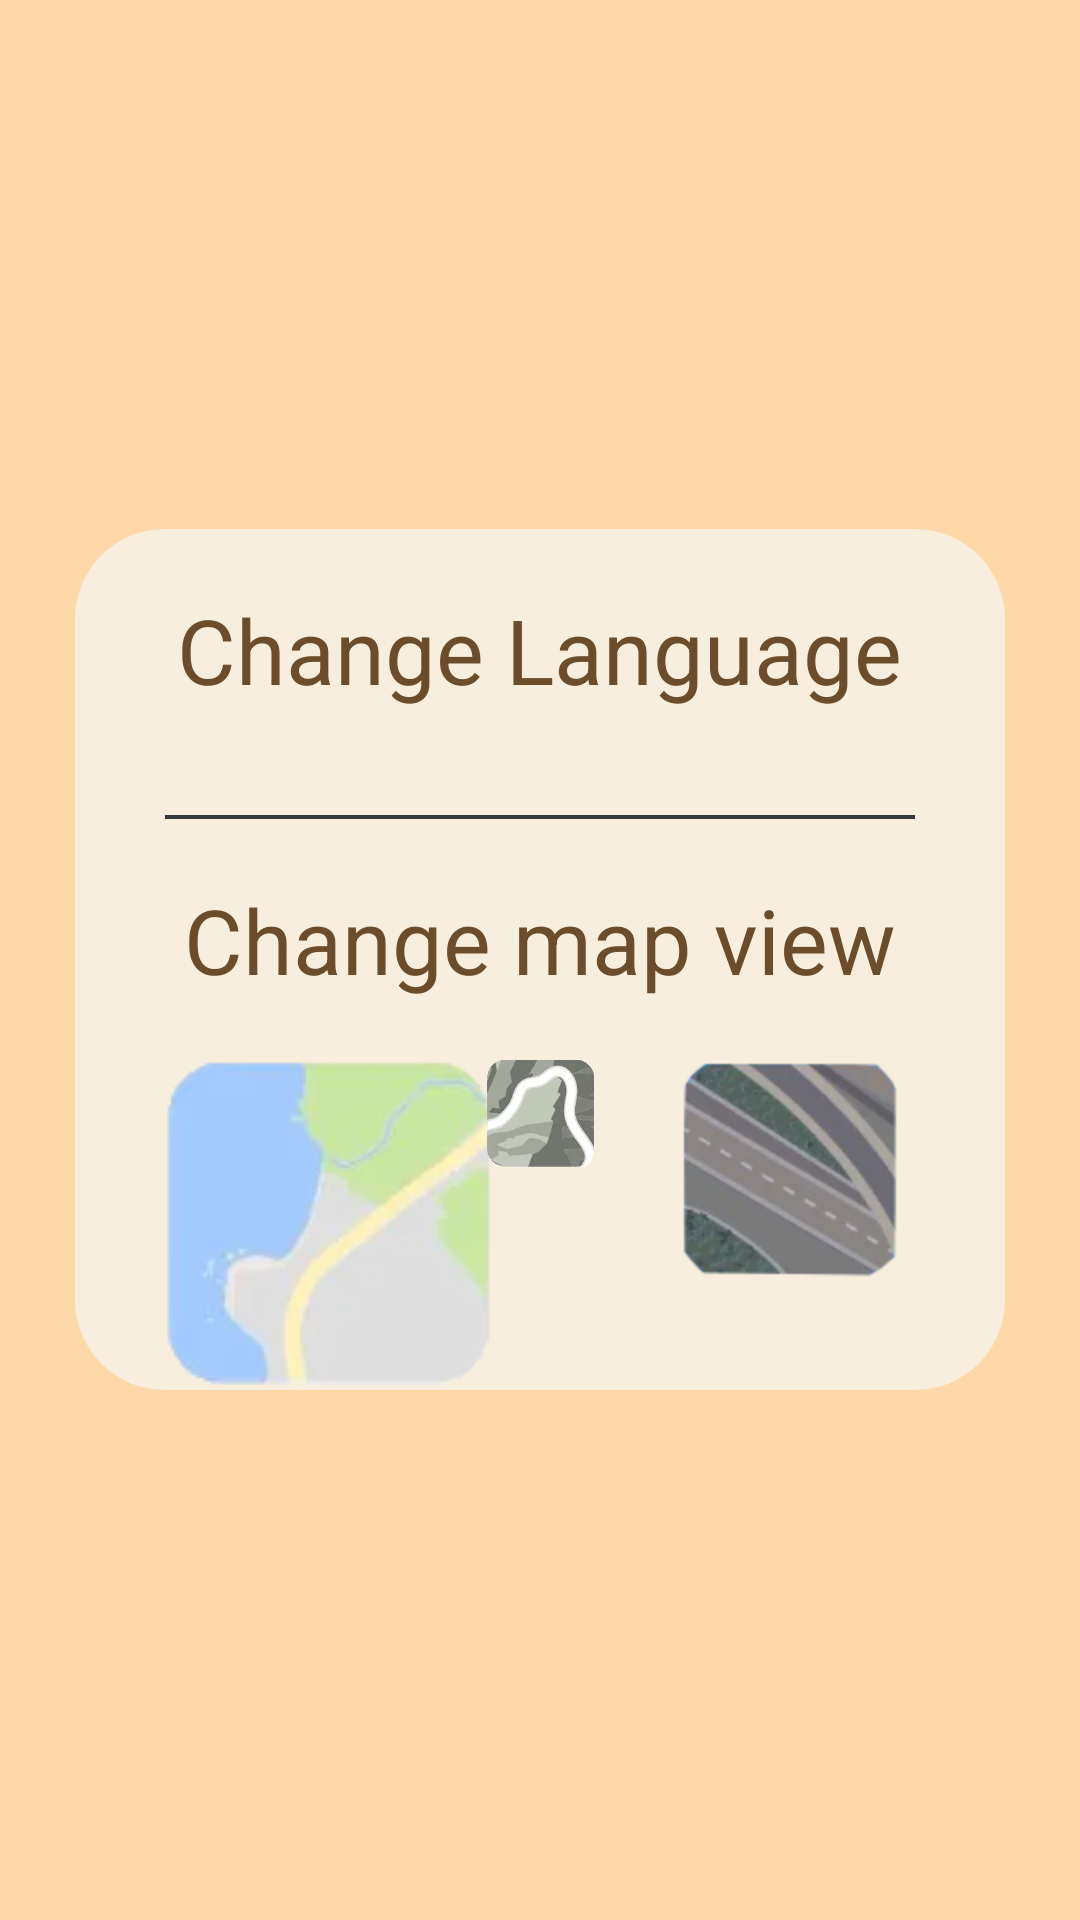

Where to tap for icons on this 1080px x 1920px app screen, as point (x, y):
satelitte map: point (790, 1169)
terain map: point (539, 1115)
